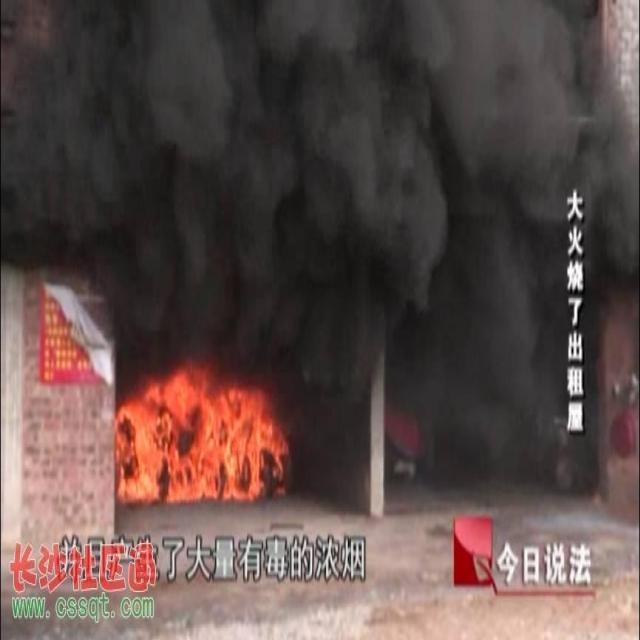Fire: (114, 362, 290, 504)
Smoke: (0, 1, 640, 496)
